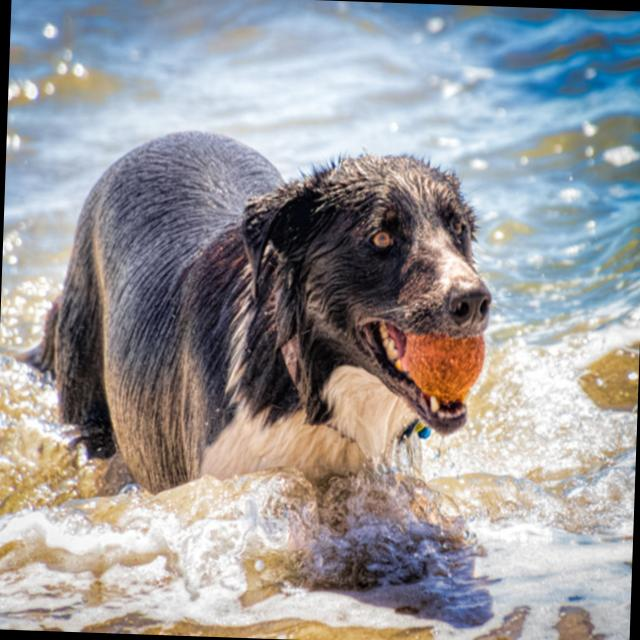Ball: (404, 335, 485, 398)
